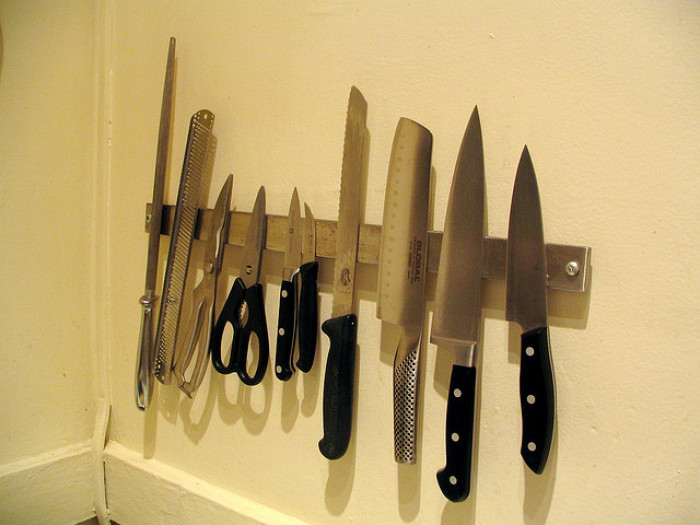knief: (325, 68, 377, 459), (386, 99, 437, 465)
